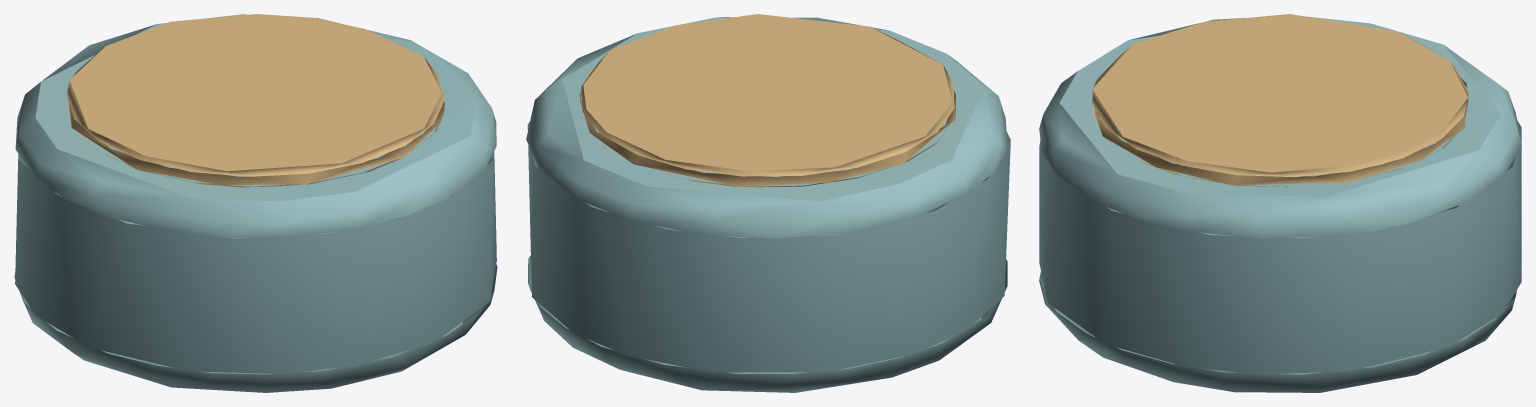
Rendered from plinth.lod.glb.
3 views of the same model, side by side, from view 1: azimuth 30°, elevation 25°; view 2: azimuth 150°, elevation 25°; view 3: azimuth 270°, elevation 25° (orthographic).
Parts seen in each view (by area): view 1: plinth; view 2: plinth; view 3: plinth.
Boxes of the visible parts, bbox=[...] form: plinth: bbox=[14, 14, 497, 392]; plinth: bbox=[526, 14, 1010, 392]; plinth: bbox=[1039, 14, 1521, 392].
Bounding box in the file's own units: 1.8 × 0.8586 × 1.8.
